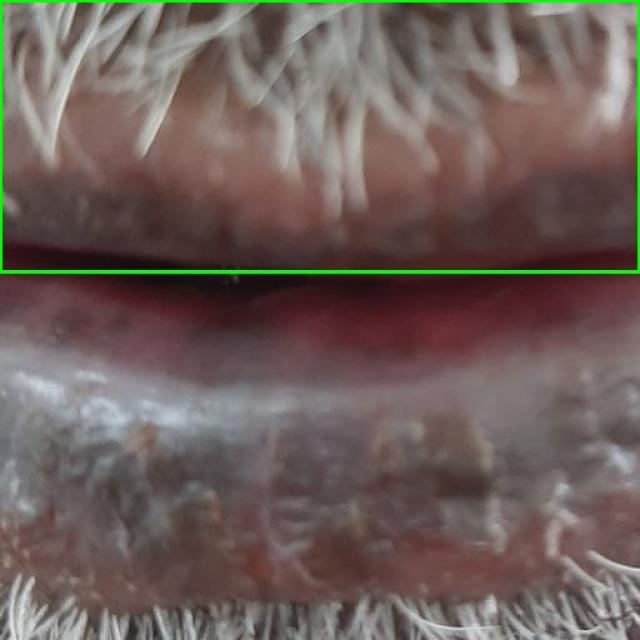Contact Dermatitis: (0, 0, 639, 271)
